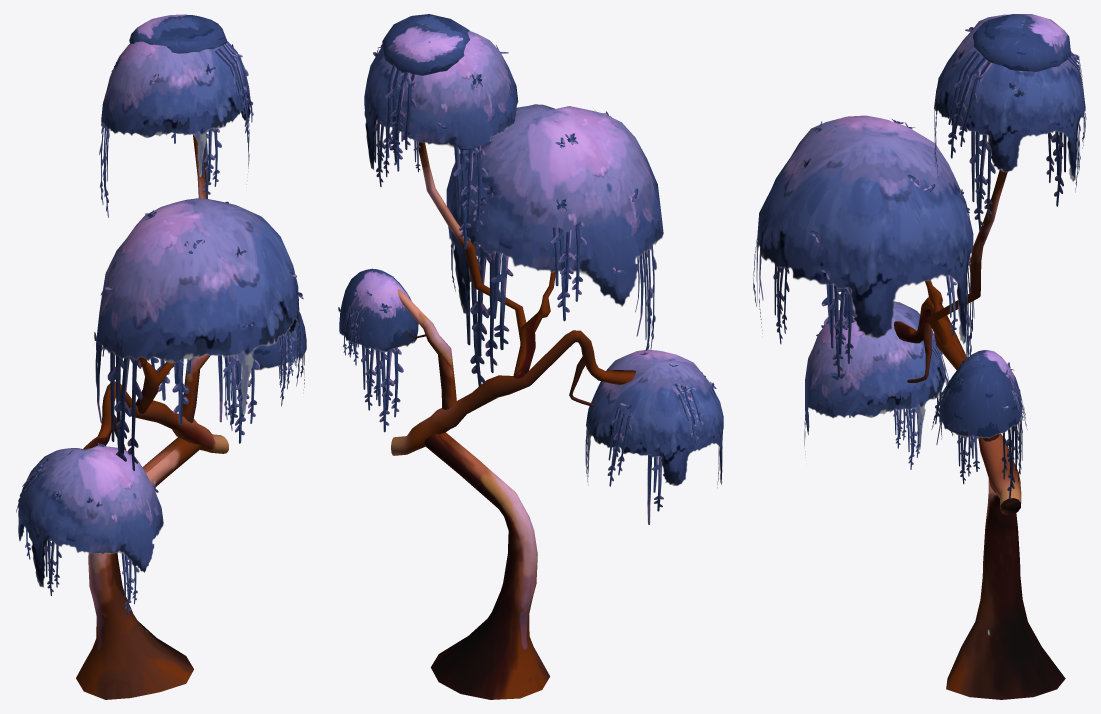
File: tree.glb
3 renders of one model, left to right at view 1: azimuth 30°, elevation 25°; view 2: azimuth 150°, elevation 25°; view 3: azimuth 270°, elevation 25°, orthographic. The views are drawn at different scales.
Parts seen in each view (by area): view 1: Leaves, Trunk; view 2: Leaves, Trunk; view 3: Leaves, Trunk.
Boxes of the visible parts, <box> form: Leaves: <box>16,14,306,615</box>; Trunk: <box>76,135,228,699</box>; Leaves: <box>338,14,723,524</box>; Trunk: <box>391,142,635,699</box>; Leaves: <box>753,14,1086,499</box>; Trunk: <box>894,169,1065,699</box>.
Size of the model in its own units: 0.1548 by 0.2918 by 0.1281.
Materials: 1 (1 with a texture image).
